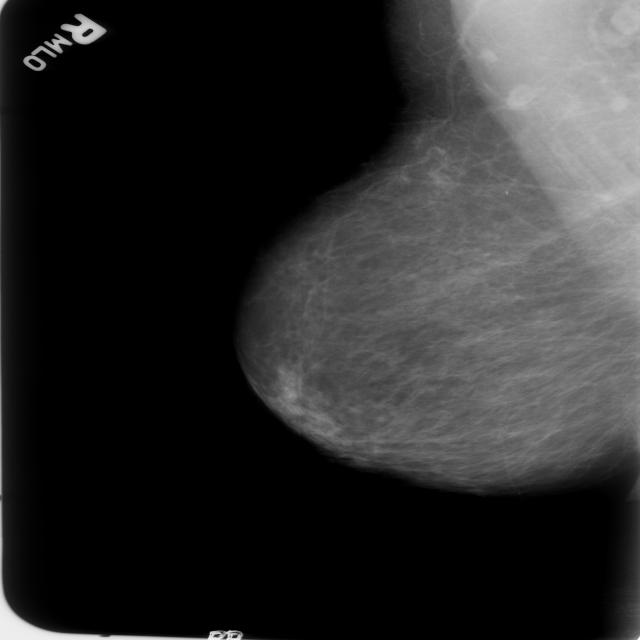normal: (232, 70, 640, 498)
